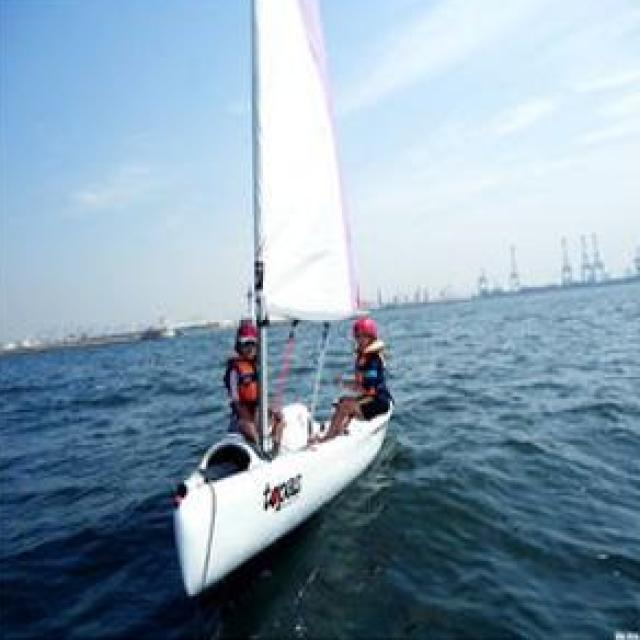sailboat: (162, 0, 396, 587)
